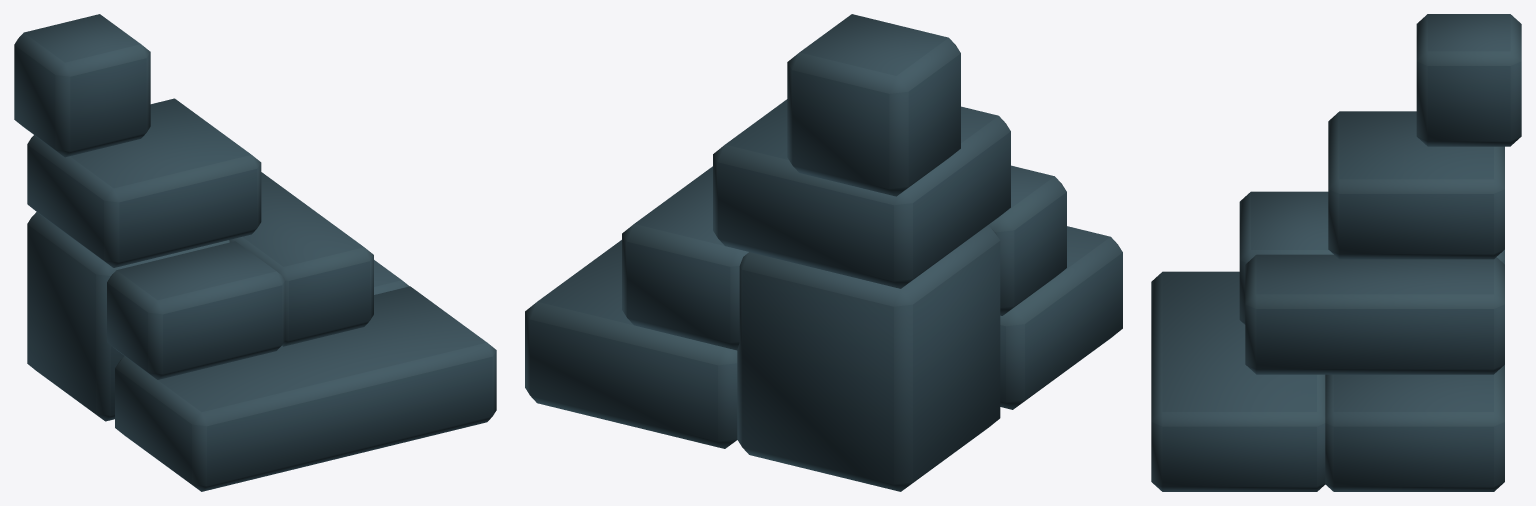
File: stair_corner_convex_hue_3.fbx
3 renders of one model, left to right at view 1: azimuth 30°, elevation 25°; view 2: azimuth 150°, elevation 25°; view 3: azimuth 270°, elevation 25°, orthographic. The views are drawn at different scales.
Parts seen in each view (by area): view 1: stair_corner_convex_hue_3; view 2: stair_corner_convex_hue_3; view 3: stair_corner_convex_hue_3.
Part boxes in pixels (box(x1,y1,x2,y2)): stair_corner_convex_hue_3: box(14, 14, 496, 491); stair_corner_convex_hue_3: box(525, 14, 1122, 491); stair_corner_convex_hue_3: box(1151, 14, 1521, 491).
Bounding box in the file's own units: 102 × 105 × 105.
